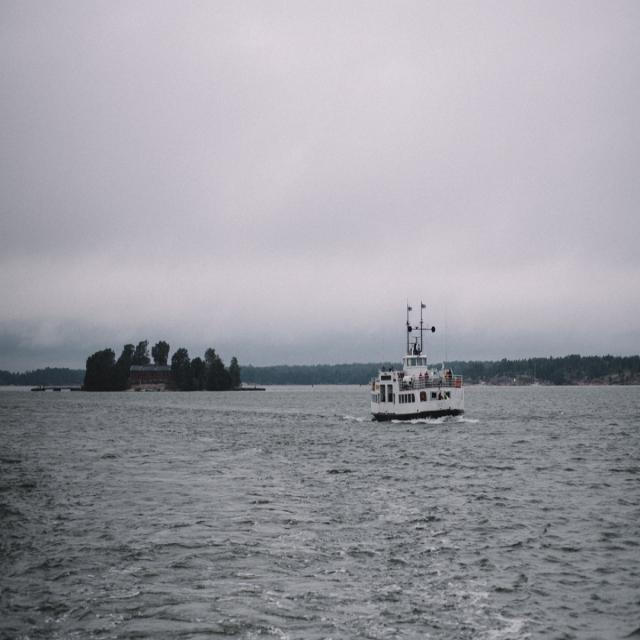fishing boat: (358, 294, 471, 428)
